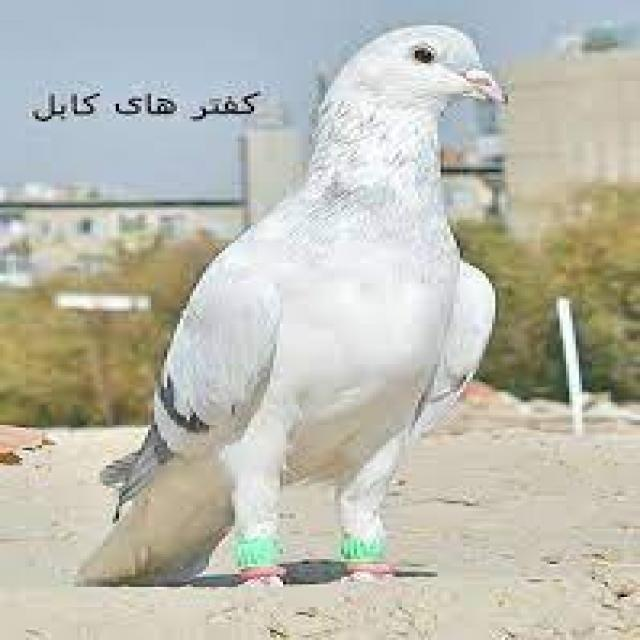bird: (69, 22, 532, 604)
